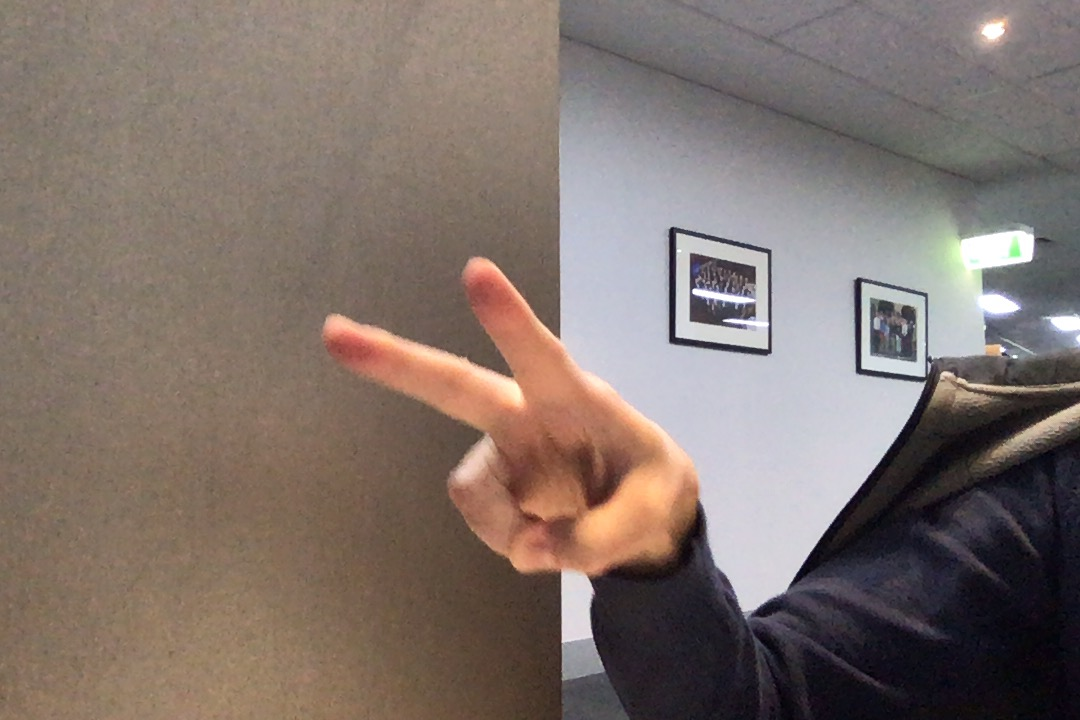peacesign: (298, 245, 725, 590)
